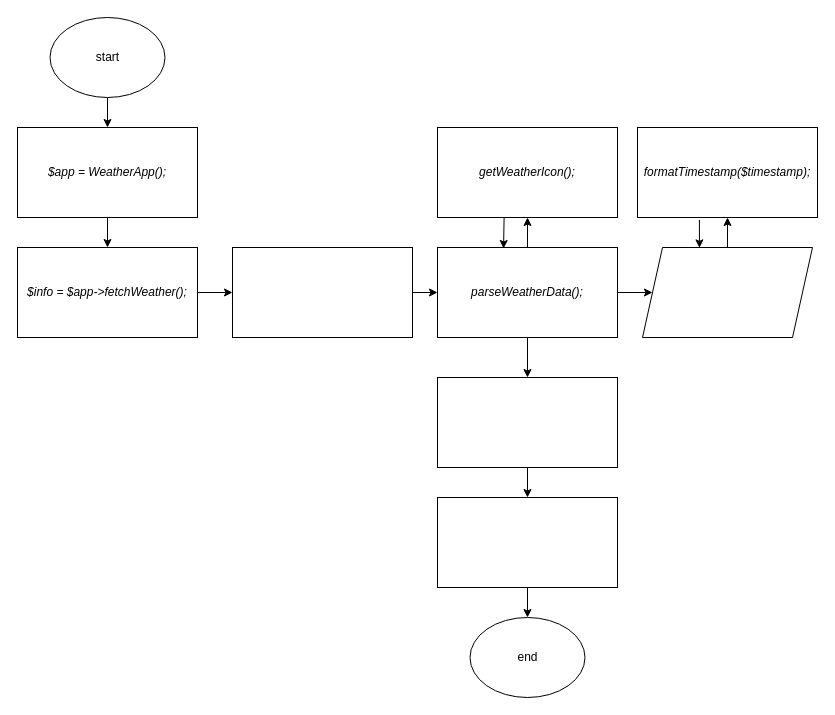
Image size: 835x715. Some labels were removed from this diagram. Each missing label, with the centre of its shape:
fetchData();: (322,292)
Frontend (User Interface): (527,542)
return weatherData();: (527,422)
unixtimestamp (sunrise, sunset): (727,292)
